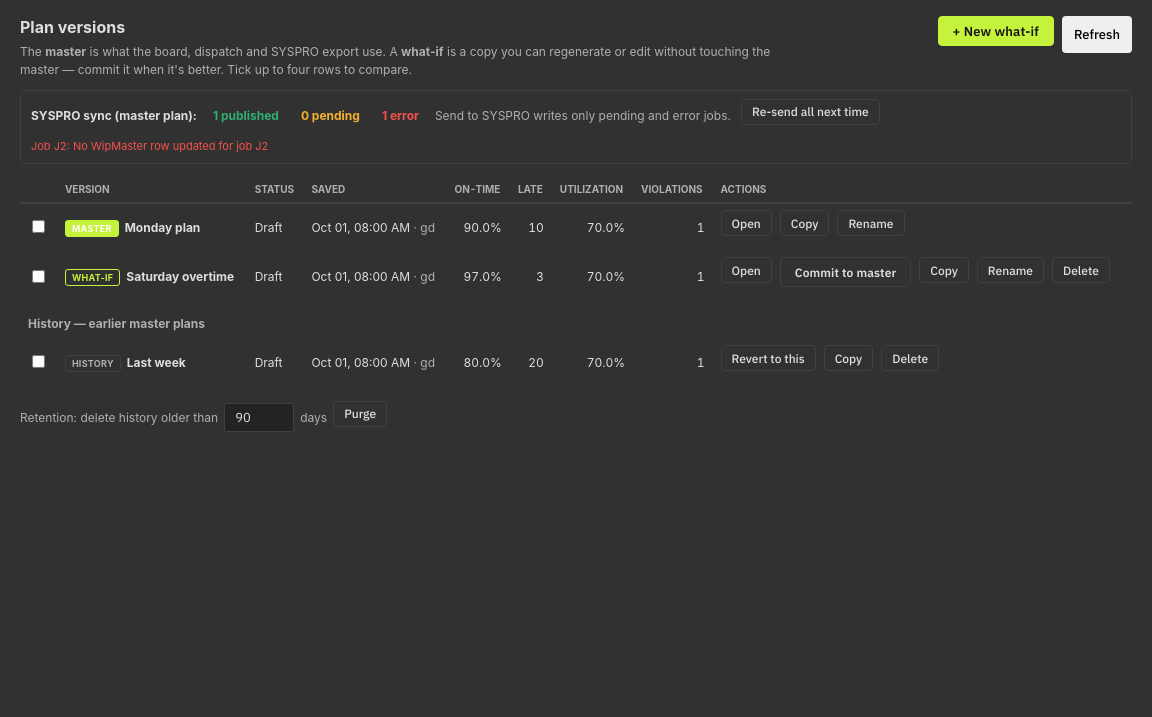
VersionsPanel › compares ticked versions and marks the best value
The width and height of the screenshot is (1152, 717).
expect the text "Monday plan" is shown: met, box [125,220,200,235]
Click the checkbox named "Compare Monday plan": {"x": 38, "y": 227} [32,220,45,234]
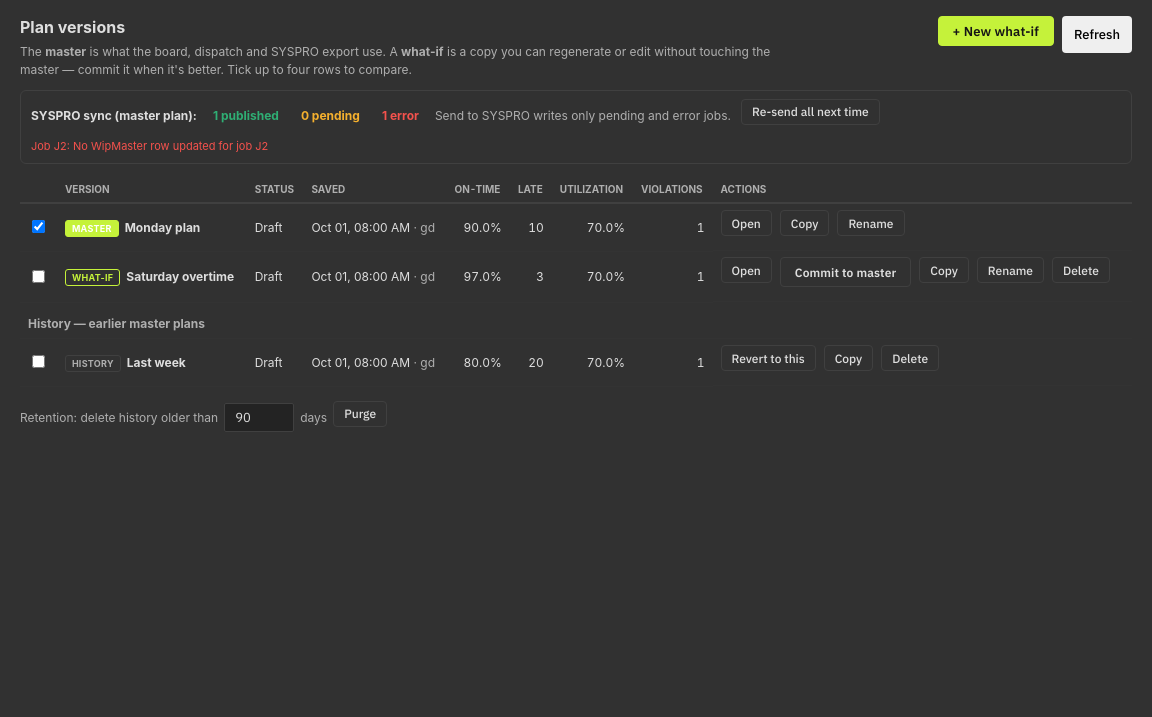
Click the checkbox named "Compare Saturday overtime": {"x": 38, "y": 276} [32,270,45,283]
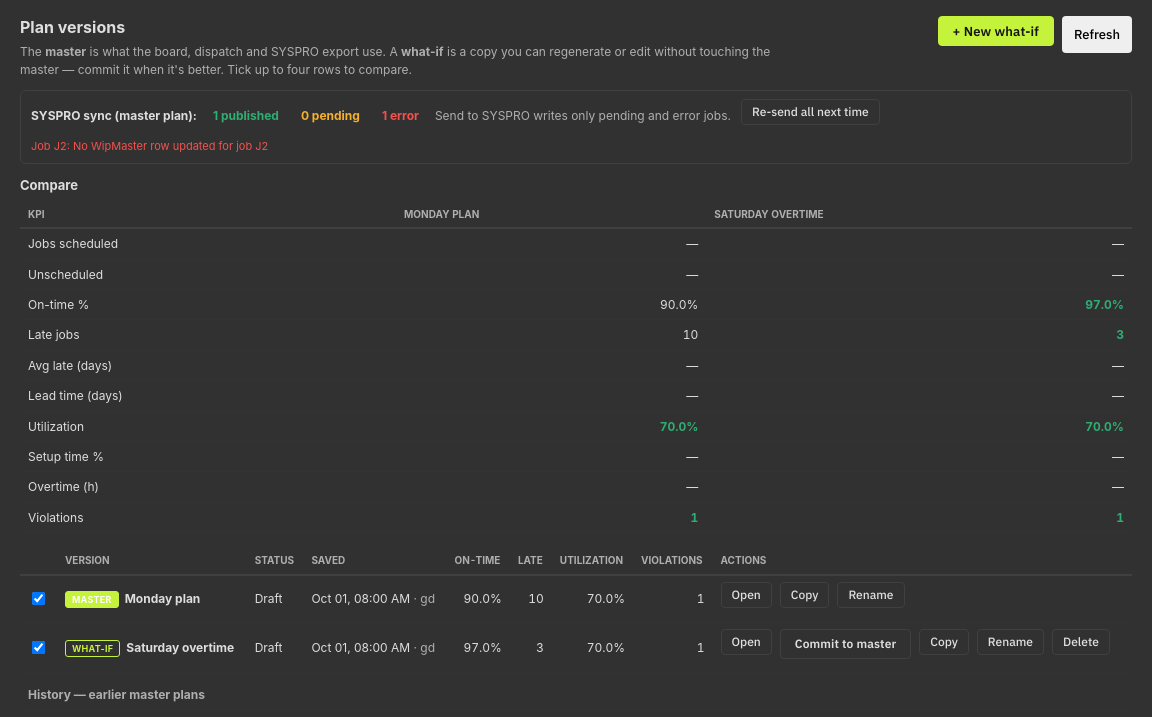
expect the text "97.0%" in the row of "On-time %" is shown: met, box [1085,297,1124,312]
